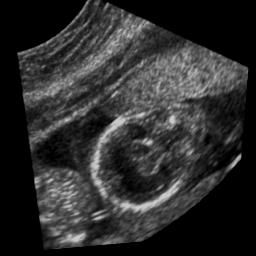abnormal: (66, 76, 237, 246)
